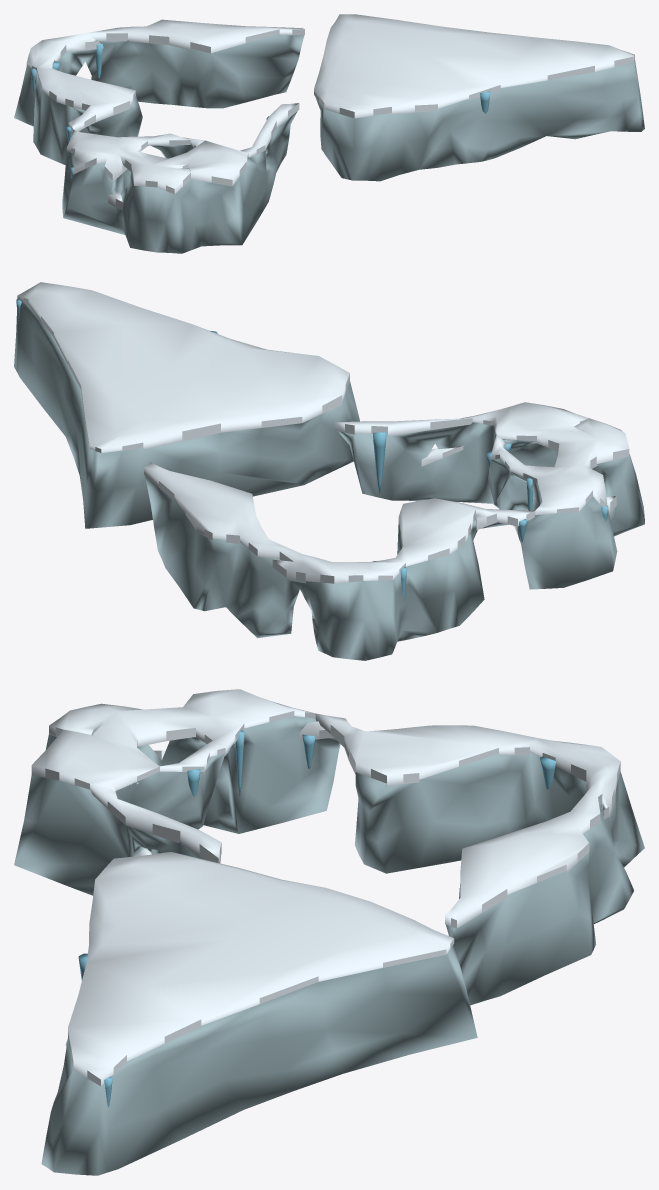
File: BossRoom_CrystalRubble.fbx
3 views of the same model, one above another, from view 1: azimuth 30°, elevation 25°; view 2: azimuth 150°, elevation 25°; view 3: azimuth 270°, elevation 25° (orthographic). The views are drawn at different scales.
Parts seen in each view (by area): view 1: BossRoom_CrystalRubble_LOD0; view 2: BossRoom_CrystalRubble_LOD0; view 3: BossRoom_CrystalRubble_LOD0.
Part boxes in pixels (x1=…): BossRoom_CrystalRubble_LOD0: x1=14, y1=14, x2=644, y2=253; BossRoom_CrystalRubble_LOD0: x1=14, y1=282, x2=644, y2=660; BossRoom_CrystalRubble_LOD0: x1=14, y1=689, x2=644, y2=1175.
Size of what is drawn, in the model's own units: 6 by 0.8681 by 3.95.
